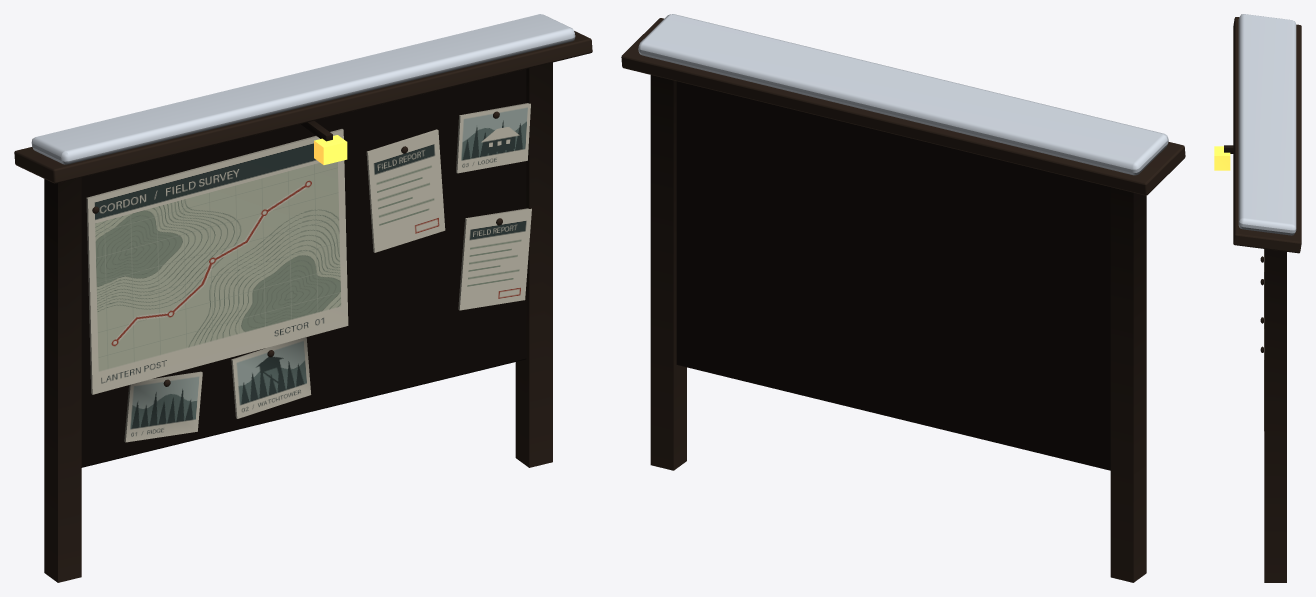
Rendered from missions_board.glb.
3 views of the same model, side by side, from view 1: azimuth 30°, elevation 25°; view 2: azimuth 150°, elevation 25°; view 3: azimuth 270°, elevation 25° (orthographic). The views are drawn at different scales.
Visible parts, largest first — view 1: MissionsBoard; view 2: MissionsBoard; view 3: MissionsBoard.
Part boxes in pixels (<box>): MissionsBoard: <box>14,14,592,582</box>; MissionsBoard: <box>621,14,1185,582</box>; MissionsBoard: <box>1214,14,1301,582</box>.
Bounding box in the file's own units: 3.2 × 2.51 × 0.5421.
4 materials, 1 textured.
